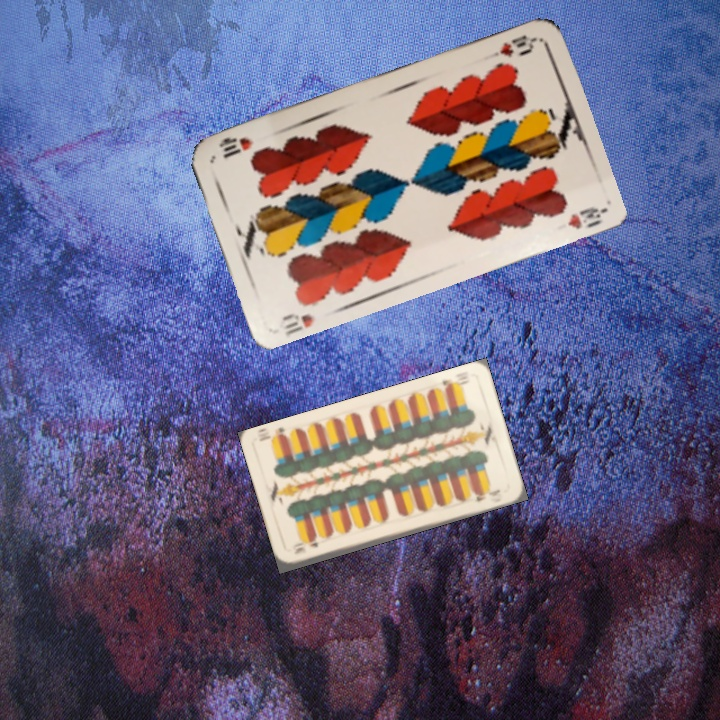E10: (438, 375, 471, 393), (290, 538, 321, 557)
H10: (484, 30, 540, 62), (278, 309, 316, 338)
